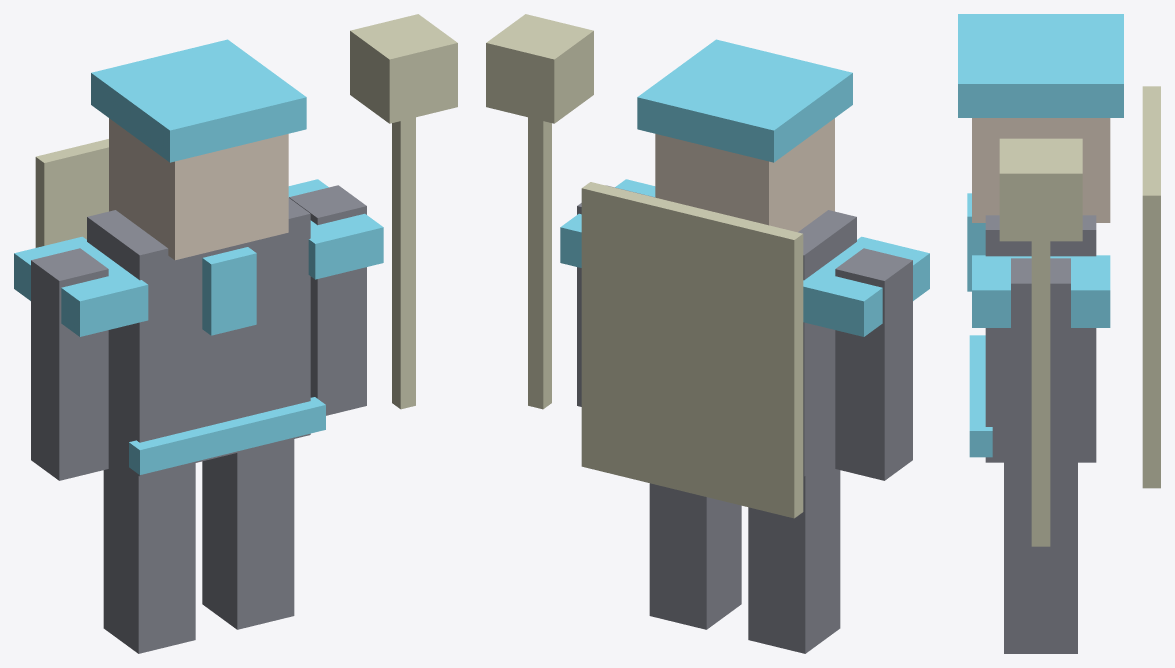
The model's file is 16_edda_stormhush_engineer_from_crater.glb.
3 renders of one model, left to right at view 1: azimuth 30°, elevation 25°; view 2: azimuth 150°, elevation 25°; view 3: azimuth 270°, elevation 25°, orthographic. The views are drawn at different scales.
Visible parts, largest first — view 1: Edda Stormhush, Engineer from Crater; view 2: Edda Stormhush, Engineer from Crater; view 3: Edda Stormhush, Engineer from Crater.
Part boxes in pixels (<box>): Edda Stormhush, Engineer from Crater: <box>14,14,457,653</box>; Edda Stormhush, Engineer from Crater: <box>486,14,929,653</box>; Edda Stormhush, Engineer from Crater: <box>958,14,1160,653</box>.
Bounding box in the file's own units: 1.11 × 1.44 × 0.47.
